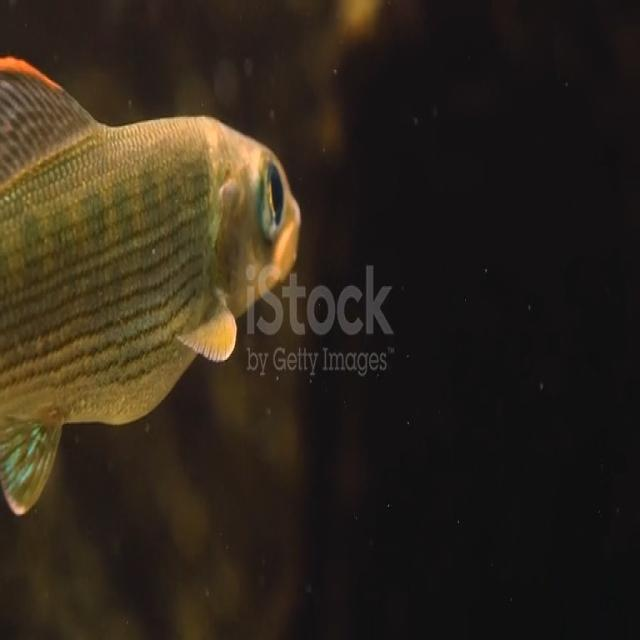fish: (0, 50, 303, 518)
